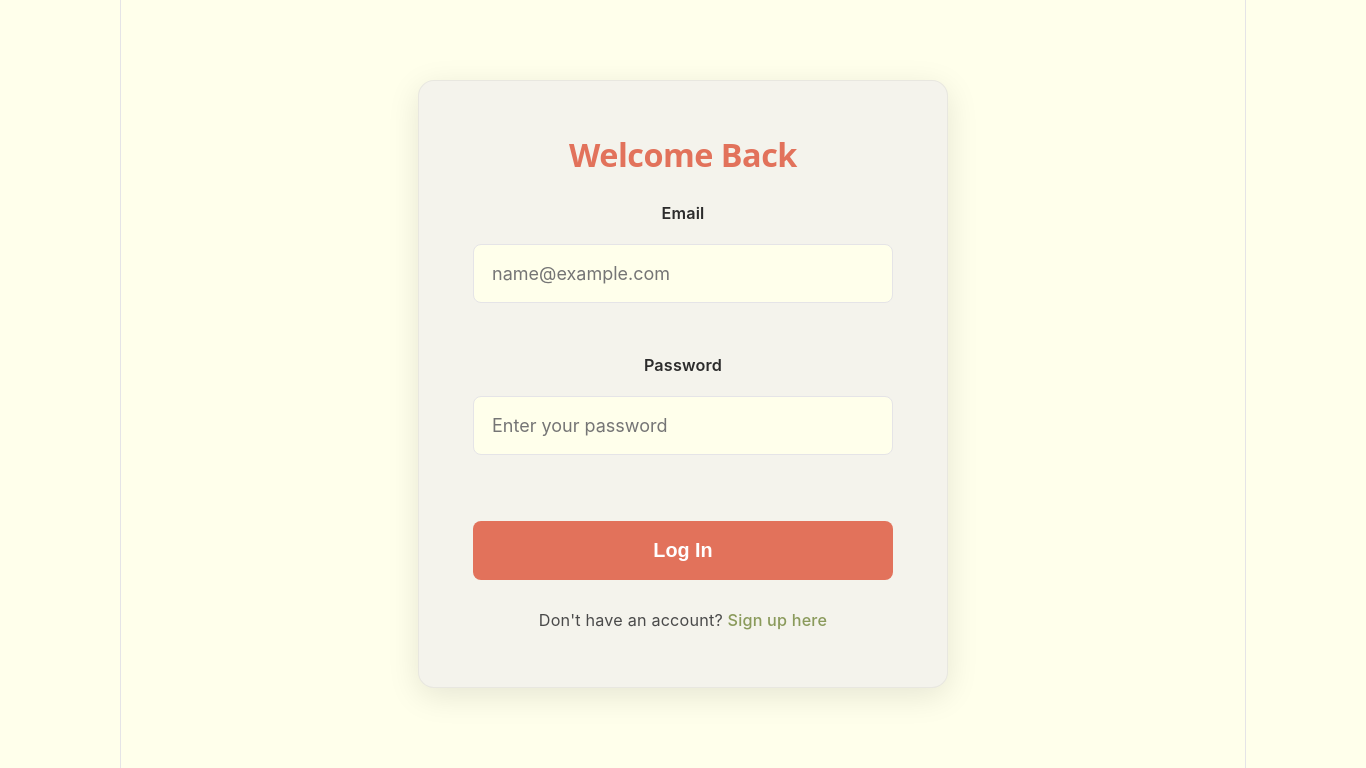
it: LoginPage › displays API error on failed login
The image size is (1366, 768).
Type "test@example.com" into the field labelled "Email". click: (683, 274)
box: [473,244,893,303]
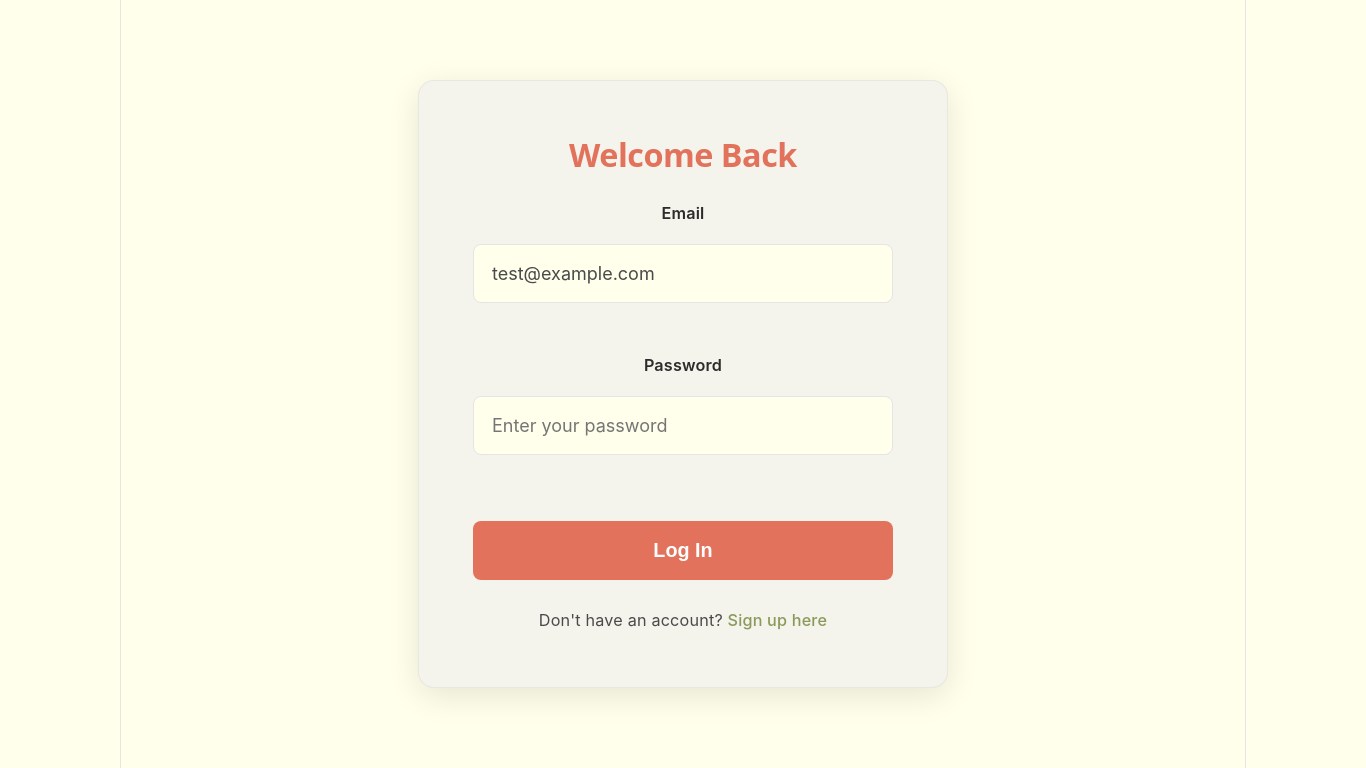
Type "wrongpass" into the password field labelled "Password". click: (683, 425)
box: [473,396,893,455]
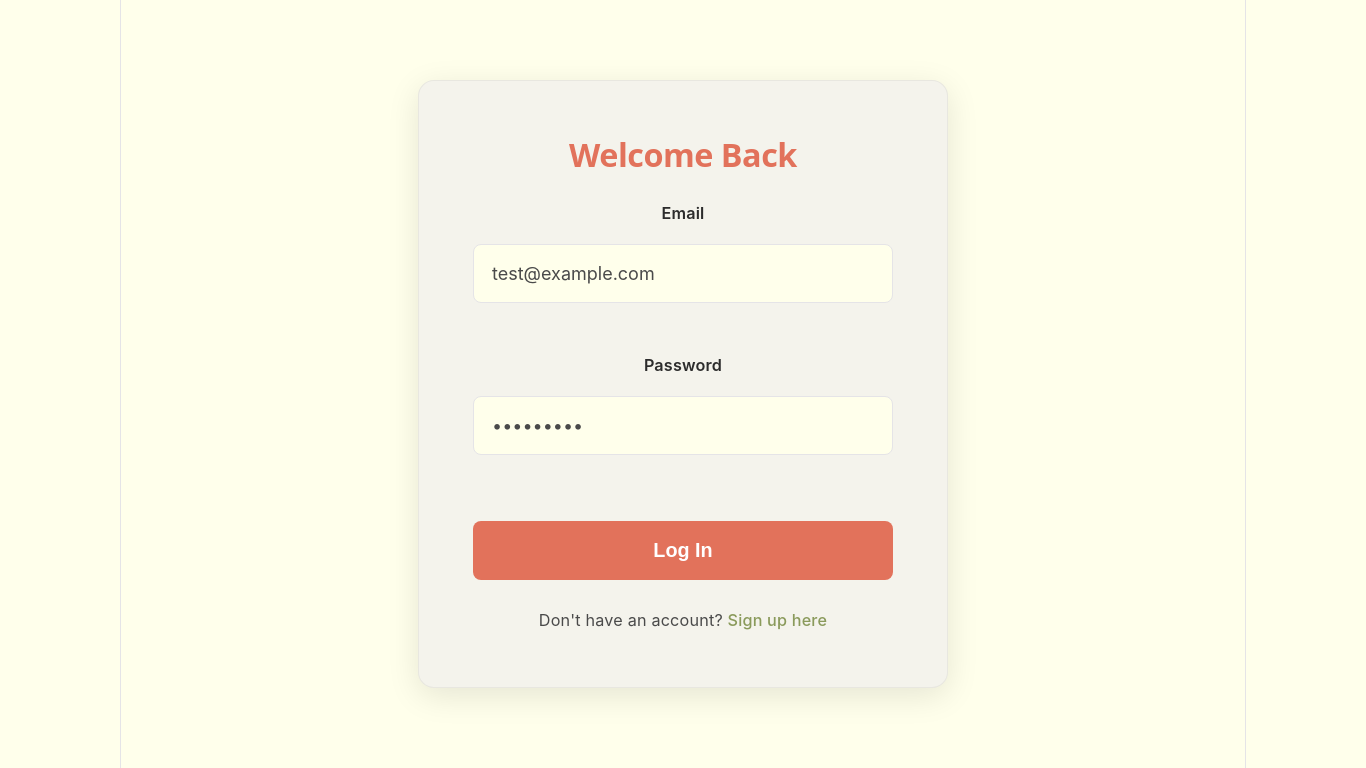
Click the button "Log In". click: (683, 551)
box: [473,521,893,580]
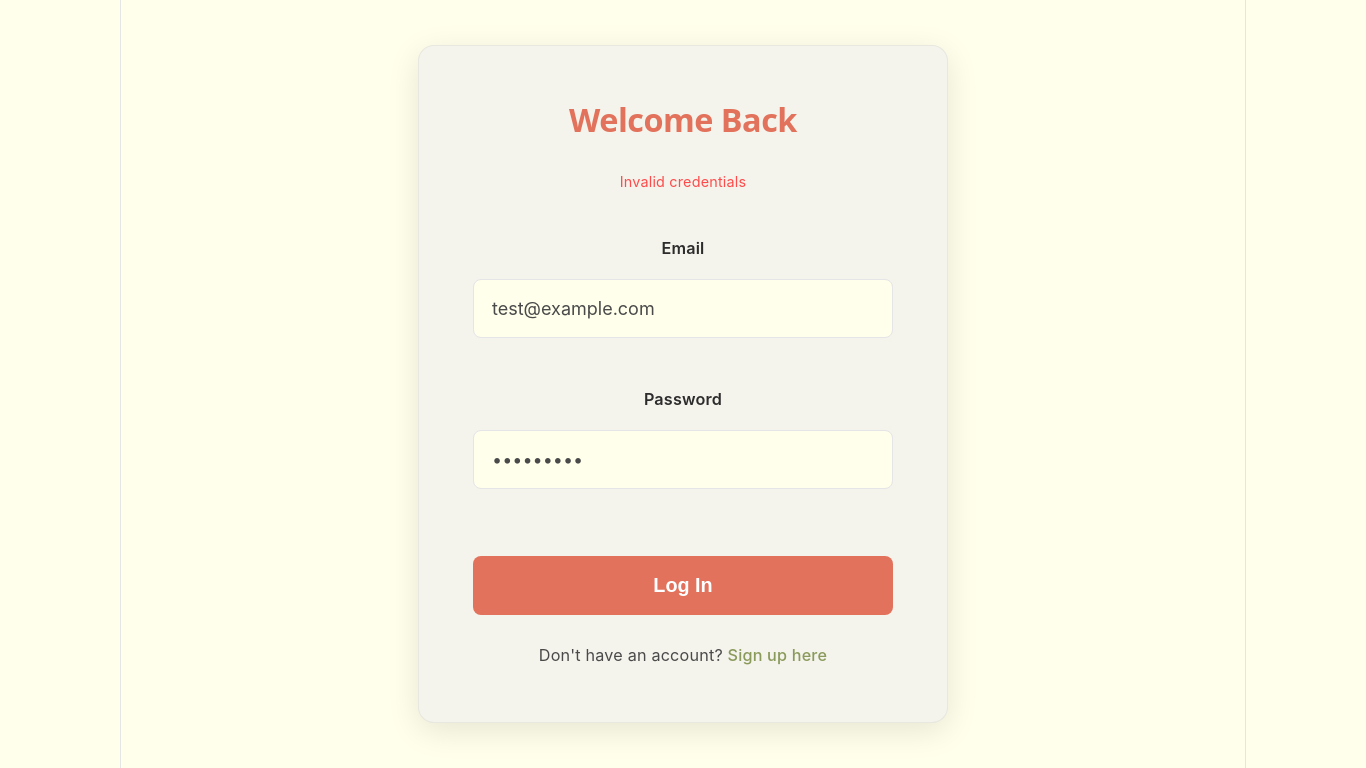
Result: the text "Invalid credentials" is shown at [620,173,746,190]
